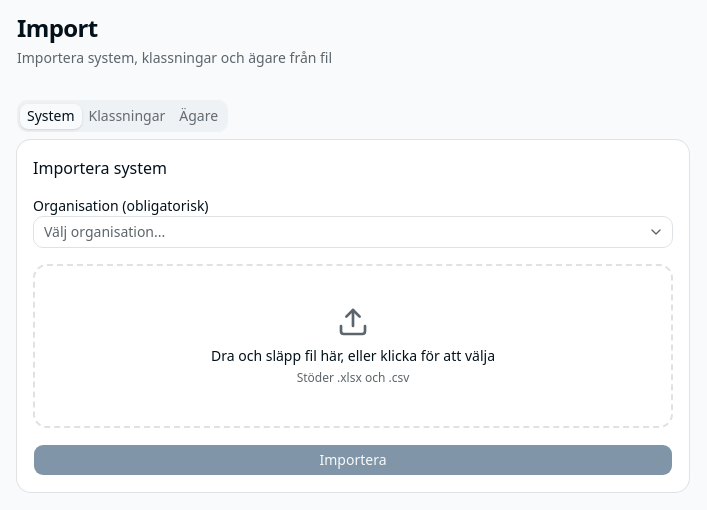
Test case: ImportPage › Organisation-val (System-fliken) › döljer organisations-dropdown i Klassningar-fliken
Click the tab "Klassningar": {"x": 127, "y": 116} top-left (82, 104), bottom-right (172, 128)
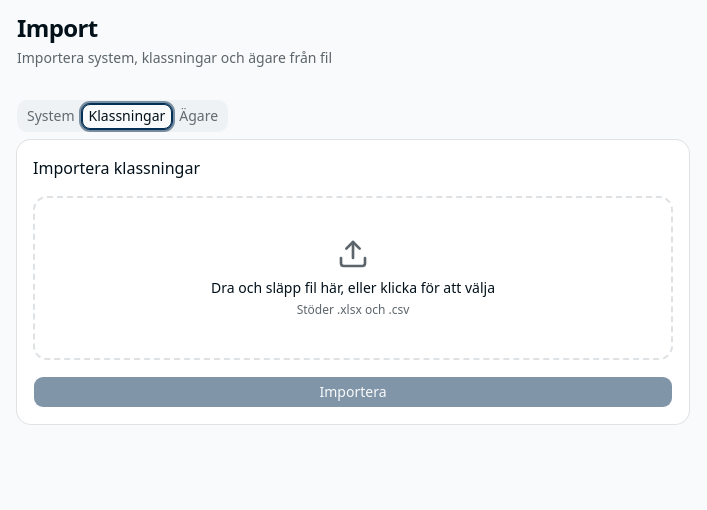
Expected: the dropdown "Välj organisation" is gone
